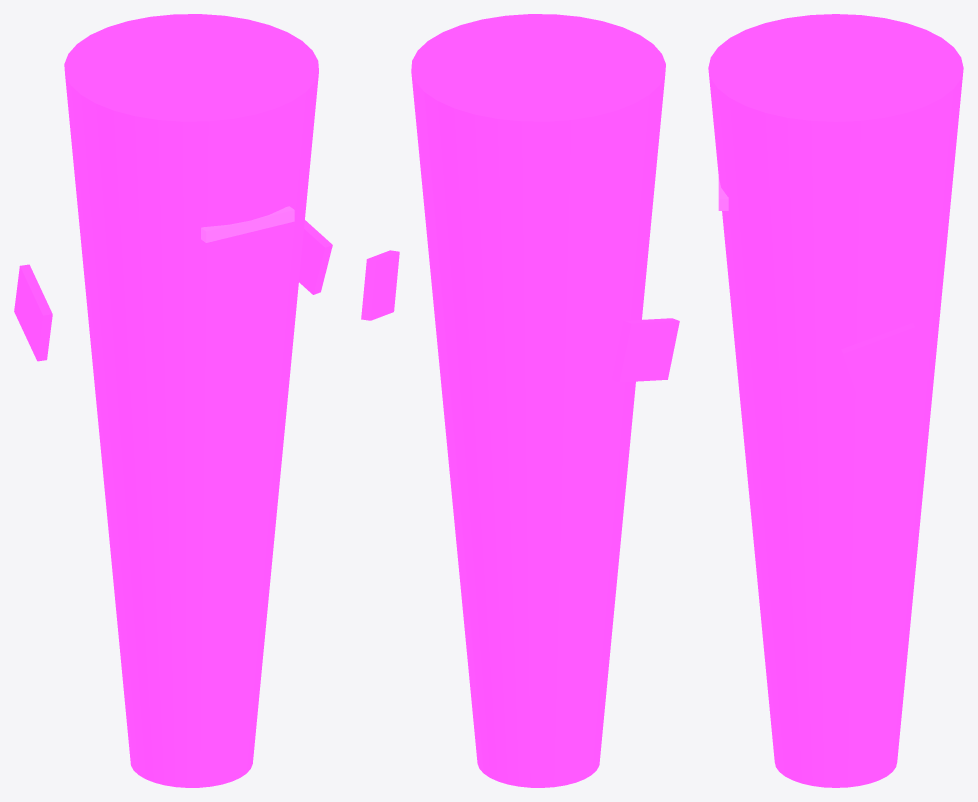
File: SM_Enemy_Fast.glb
3 renders of one model, left to right at view 1: azimuth 30°, elevation 25°; view 2: azimuth 150°, elevation 25°; view 3: azimuth 270°, elevation 25°, orthographic.
Visible parts, largest first — view 1: SM_Enemy_Fast; view 2: SM_Enemy_Fast; view 3: SM_Enemy_Fast.
Boxes of the visible parts, box(x1,y1,x2,y2) form: SM_Enemy_Fast: box(14, 14, 332, 787); SM_Enemy_Fast: box(361, 14, 679, 787); SM_Enemy_Fast: box(708, 14, 963, 787).
Size of the model in its own units: 0.6551 by 1.5 by 0.5.
